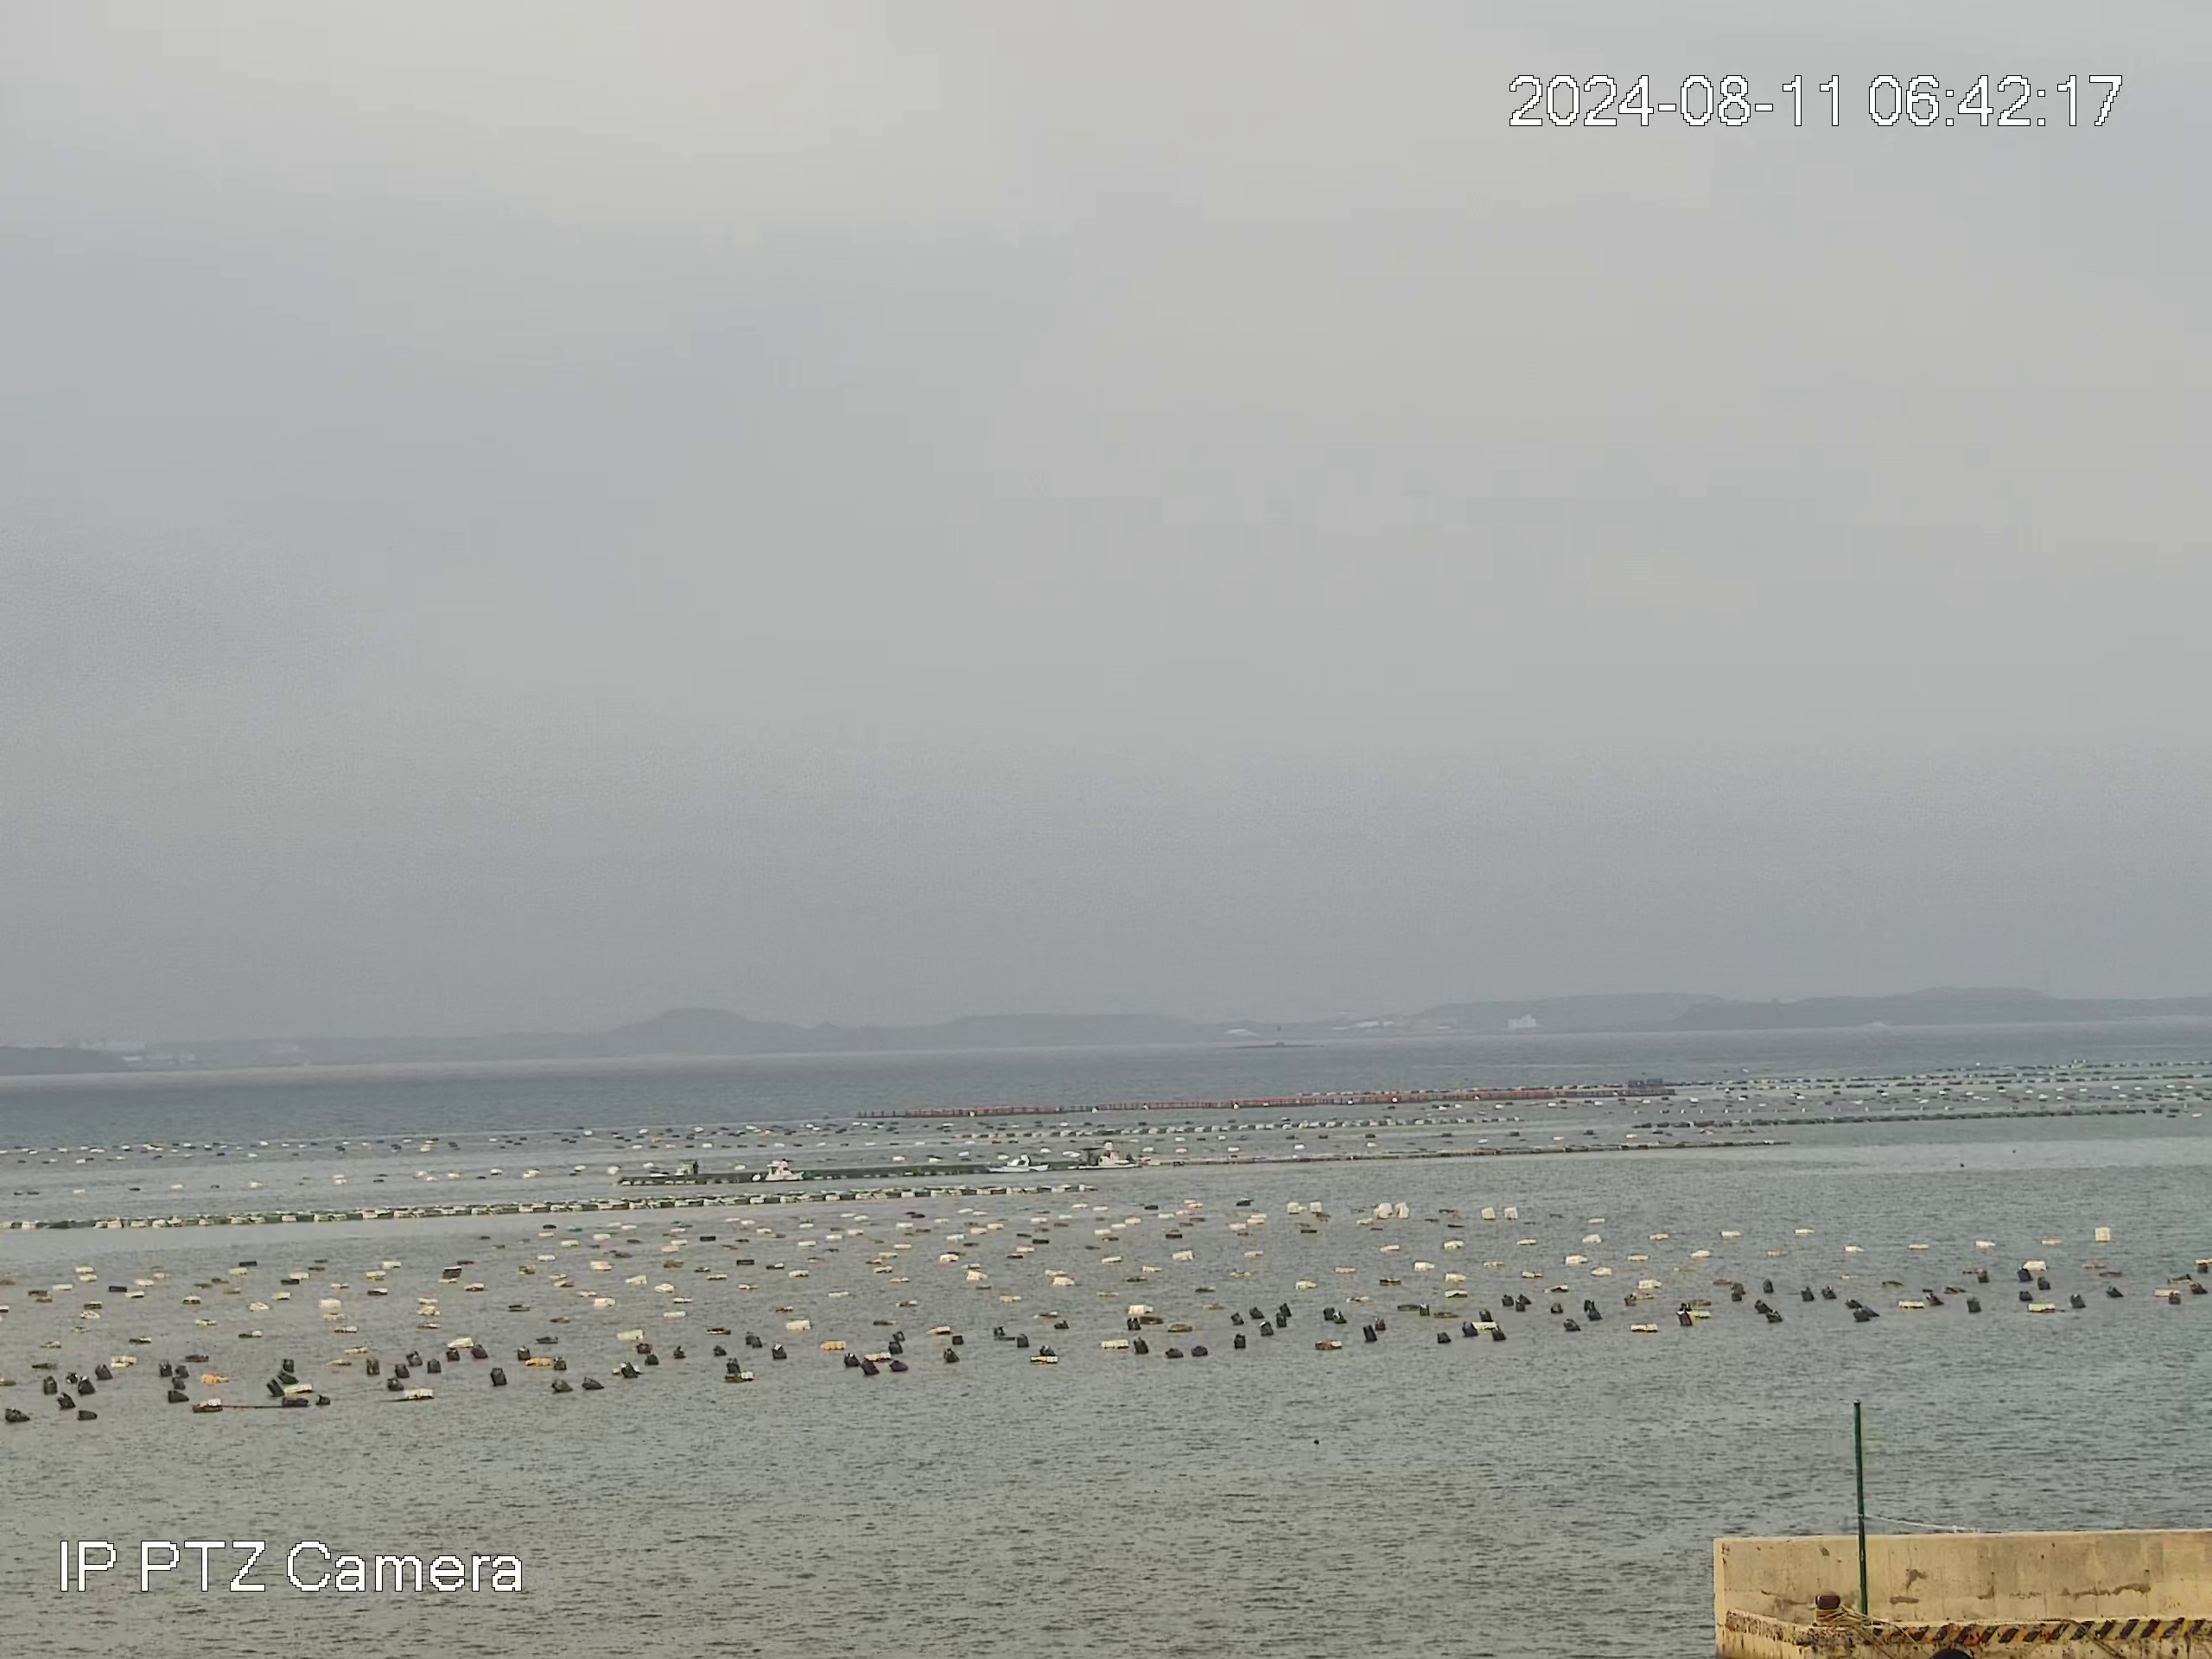boat: (1066, 1146, 1126, 1170), (985, 1153, 1050, 1174), (750, 1159, 806, 1183)
